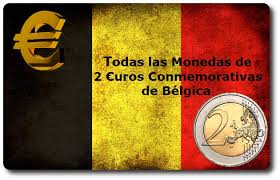eur002: (192, 92, 269, 168)
